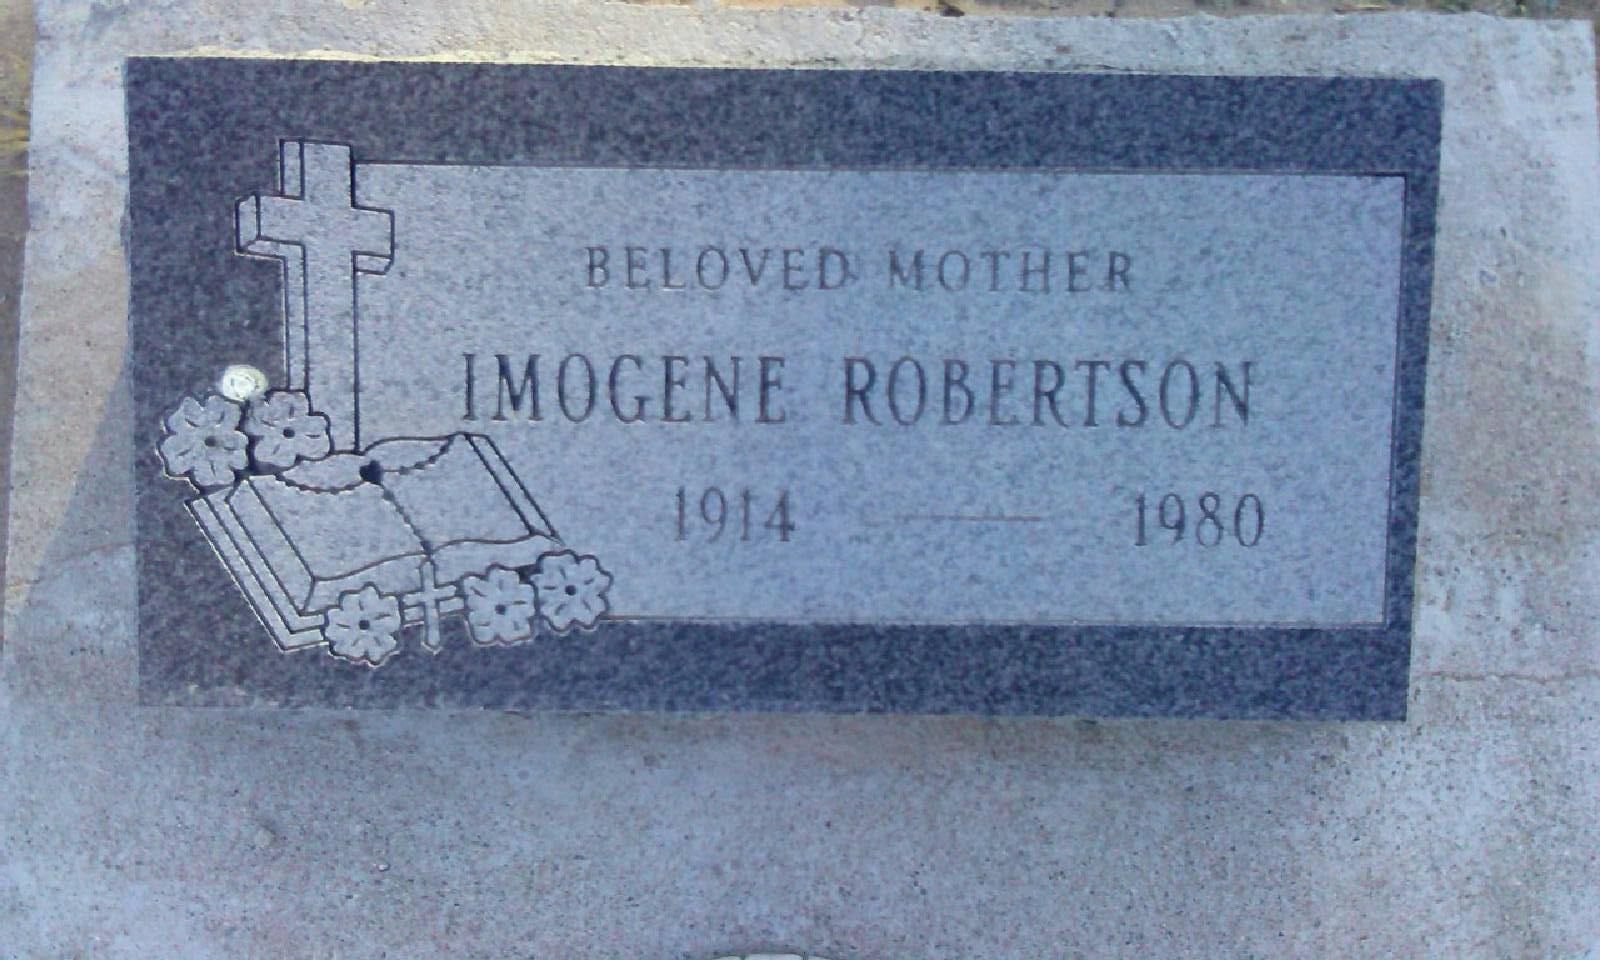flat: (123, 42, 1461, 757)
